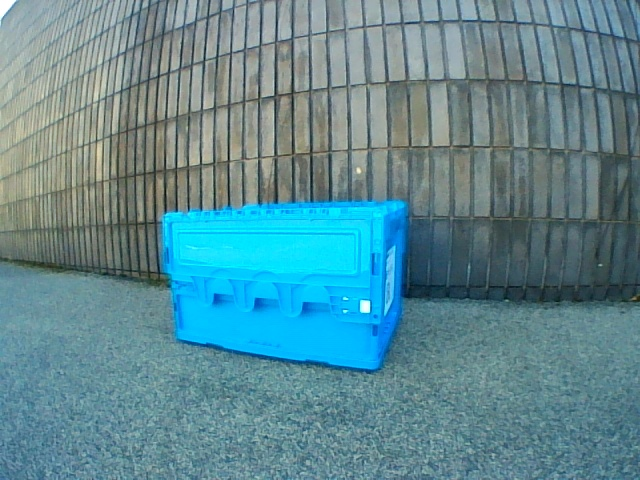blue_box: (163, 201, 406, 370)
tag: (386, 256, 393, 301)
